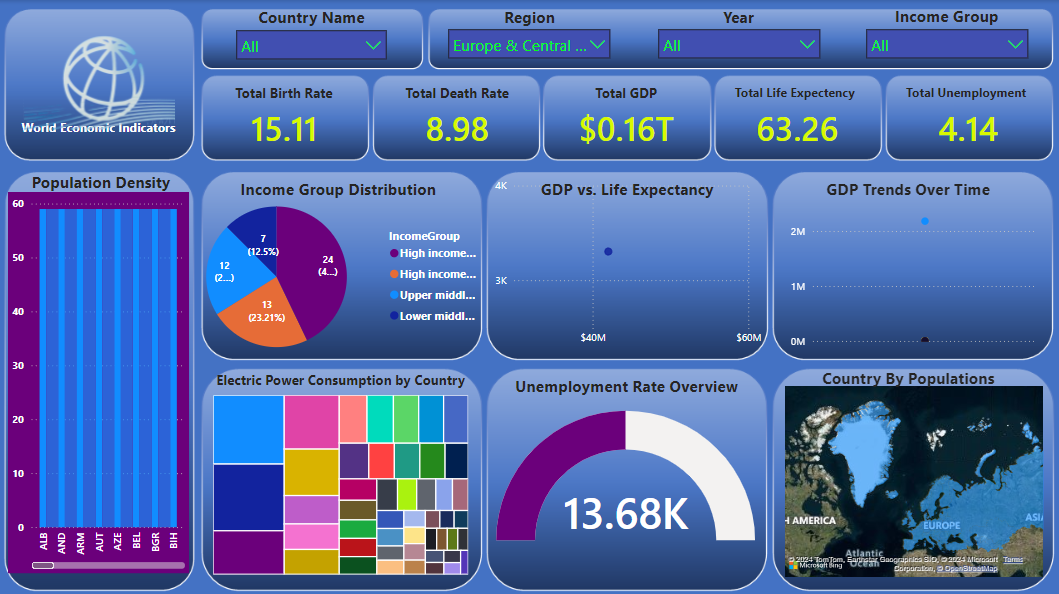

What the dashboard file says about the page in this screenshot:
{"tool":"powerbi","page":{"name":"Page 1","canvas":[1280,720],"ordinal":0},"visuals":[{"type":"textbox","box":[13.3,138.6,215.3,47.2],"z":1000},{"type":"slicer","fields":{"Values":["Development Indicators.Region"]},"box":[532.4,25.1,215.3,60.5],"z":2000},{"type":"slicer","fields":{"Values":["Development Indicators.Year"]},"box":[785,25,215,60],"z":3000},{"type":"slicer","fields":{"Values":["Development Indicators.Country Name"]},"box":[277.2,26.5,200.6,56],"z":4000},{"type":"slicer","fields":{"Values":["Development Indicators.IncomeGroup"]},"box":[1035.2,25.1,215.3,60.5],"z":5000},{"type":"textbox","box":[300.8,2.9,153.4,38.3],"z":6000},{"type":"textbox","box":[563.3,2.9,153.4,42.8],"z":7000},{"type":"textbox","box":[815.5,2.9,153.4,42.8],"z":8000},{"type":"textbox","box":[1058.8,1.5,168.1,42.8],"z":9000},{"type":"filledMap","fields":{"Category":["Development Indicators.Country Name"],"Series":["Development Indicators.Population density (people per sq. km of land area)"]},"box":[942.3,460.1,321.5,240.4],"z":10000},{"type":"textbox","box":[943.3,436.7,306.7,41.7],"z":11000},{"type":"pieChart","fields":{"Y":["Count(Development Indicators.Country Name)"],"Category":["Development Indicators.IncomeGroup"]},"box":[195,186.7,396.7,293.3],"z":12000},{"type":"textbox","box":[256.7,210,306.7,41.7],"z":13000},{"type":"scatterChart","fields":{"X":["Sum(Development Indicators.GDP per capita (USD))"],"Y":["CountNonNull(Development Indicators.Life expectancy at birth (years))"],"Series":["Development Indicators.Region"]},"box":[591.7,210,333.3,215],"z":14000},{"type":"textbox","box":[605,210,306.7,41.7],"z":15000},{"type":"lineChart","fields":{"Y":["Sum(Development Indicators.Year)"],"Series":["Development Indicators.GDP (USD)"]},"box":[948.3,231.7,306.7,193.3],"z":16000},{"type":"textbox","box":[943.3,210,306.7,41.7],"z":17000},{"type":"treemap","fields":{"Values":["Sum(Development Indicators.Electric power consumption (kWh per capita))"],"Group":["Development Indicators.Country Name"]},"box":[253.6,470.4,317.1,225.6],"z":18000},{"type":"textbox","box":[246.3,442.4,331.8,42.8],"z":19000},{"type":"gauge","fields":{"Y":["Sum(Development Indicators.Unemployment (% of total labor force) (modeled ILO estimate))"]},"box":[595,425,321.7,295],"z":20000},{"type":"textbox","box":[591.7,446.7,331.7,41.7],"z":21000},{"type":"textbox","box":[262.5,95.9,163.7,38.3],"z":22000},{"type":"textbox","box":[669.5,95.9,174,38.3],"z":23000},{"type":"textbox","box":[466,95.9,174,38.3],"z":24000},{"type":"textbox","box":[864.2,95.8,189.6,38.7],"z":25000},{"type":"textbox","box":[1068,95,195.4,38.8],"z":26000},{"type":"textbox","box":[1068,96.4,195.4,38.8],"z":27000},{"type":"card","fields":{"Values":["Avg(Development Indicators.Birth rate, crude (per 1,000 people))"]},"box":[252.7,116.2,183.4,77.5],"z":28000},{"type":"card","fields":{"Values":["Avg(Development Indicators.Death rate, crude (per 1,000 people))"]},"box":[460.6,116.2,183.4,77.5],"z":29000},{"type":"card","fields":{"Values":["Avg(Development Indicators.GDP (USD))"]},"box":[664.5,116.2,183.4,77.5],"z":30000},{"type":"card","fields":{"Values":["Avg(Development Indicators.Life expectancy at birth (years))"]},"box":[870.3,116.2,183.4,77.5],"z":31000},{"type":"card","fields":{"Values":["Avg(Development Indicators.Unemployment (% of total labor force) (modeled ILO estimate))"]},"box":[1076.2,116.2,183.4,77.5],"z":32000},{"type":"ribbonChart","fields":{"Category":["Development Indicators.Country Code"],"Y":["CountNonNull(Development Indicators.Population density (people per sq. km of land area))"]},"box":[11.8,231.5,218.2,458.6],"z":33000},{"type":"textbox","box":[25.1,200.6,197.6,36.9],"z":34000},{"type":"actionButton","box":[13,0,218,190],"z":34001}]}

Visuals, with their boxes in screenshot pixels (x1, y1, x2, y2), scaled from the page's 1280x720 canvas onto the 1059x594 screenshot:
textbox: region(11, 114, 189, 153)
slicer - Development Indicators.Region: region(440, 21, 619, 71)
slicer - Development Indicators.Year: region(649, 21, 827, 70)
slicer - Development Indicators.Country Name: region(229, 22, 395, 68)
slicer - Development Indicators.IncomeGroup: region(856, 21, 1035, 71)
textbox: region(249, 2, 376, 34)
textbox: region(466, 2, 593, 38)
textbox: region(675, 2, 802, 38)
textbox: region(876, 1, 1015, 37)
filledMap - Development Indicators.Country Name x Development Indicators.Population density (people per sq. km of land area): region(780, 380, 1046, 578)
textbox: region(780, 360, 1034, 395)
pieChart - Count(Development Indicators.Country Name) x Development Indicators.IncomeGroup: region(161, 154, 490, 396)
textbox: region(212, 173, 466, 208)
scatterChart - Sum(Development Indicators.GDP per capita (USD)) x CountNonNull(Development Indicators.Life expectancy at birth (years)): region(490, 173, 765, 351)
textbox: region(501, 173, 754, 208)
lineChart - Sum(Development Indicators.Year) x Development Indicators.GDP (USD): region(785, 191, 1038, 351)
textbox: region(780, 173, 1034, 208)
treemap - Sum(Development Indicators.Electric power consumption (kWh per capita)) x Development Indicators.Country Name: region(210, 388, 472, 574)
textbox: region(204, 365, 478, 400)
gauge - Sum(Development Indicators.Unemployment (% of total labor force) (modeled ILO estimate)): region(492, 351, 758, 593)
textbox: region(490, 369, 764, 403)
textbox: region(217, 79, 353, 111)
textbox: region(554, 79, 698, 111)
textbox: region(386, 79, 530, 111)
textbox: region(715, 79, 872, 111)
textbox: region(884, 78, 1045, 110)
textbox: region(884, 80, 1045, 112)
card - Avg(Development Indicators.Birth rate, crude (per 1,000 people)): region(209, 96, 361, 160)
card - Avg(Development Indicators.Death rate, crude (per 1,000 people)): region(381, 96, 533, 160)
card - Avg(Development Indicators.GDP (USD)): region(550, 96, 702, 160)
card - Avg(Development Indicators.Life expectancy at birth (years)): region(720, 96, 872, 160)
card - Avg(Development Indicators.Unemployment (% of total labor force) (modeled ILO estimate)): region(890, 96, 1042, 160)
ribbonChart - Development Indicators.Country Code x CountNonNull(Development Indicators.Population density (people per sq. km of land area)): region(10, 191, 190, 569)
textbox: region(21, 165, 184, 196)
actionButton: region(11, 0, 191, 157)
